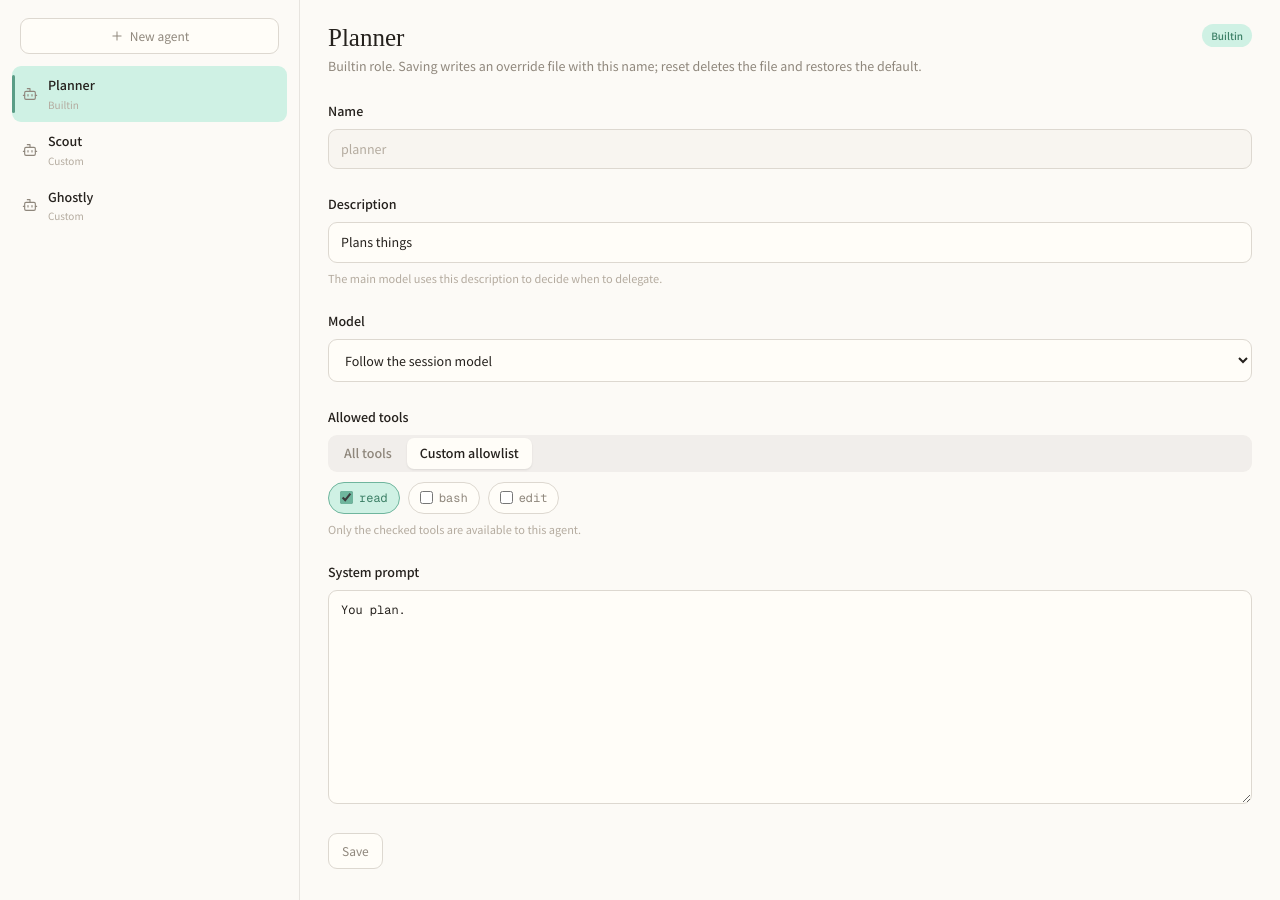
SubagentsPanel › rejects an empty custom allowlist
Click the text "Scout" at (65, 140), box [48,131,82,150]
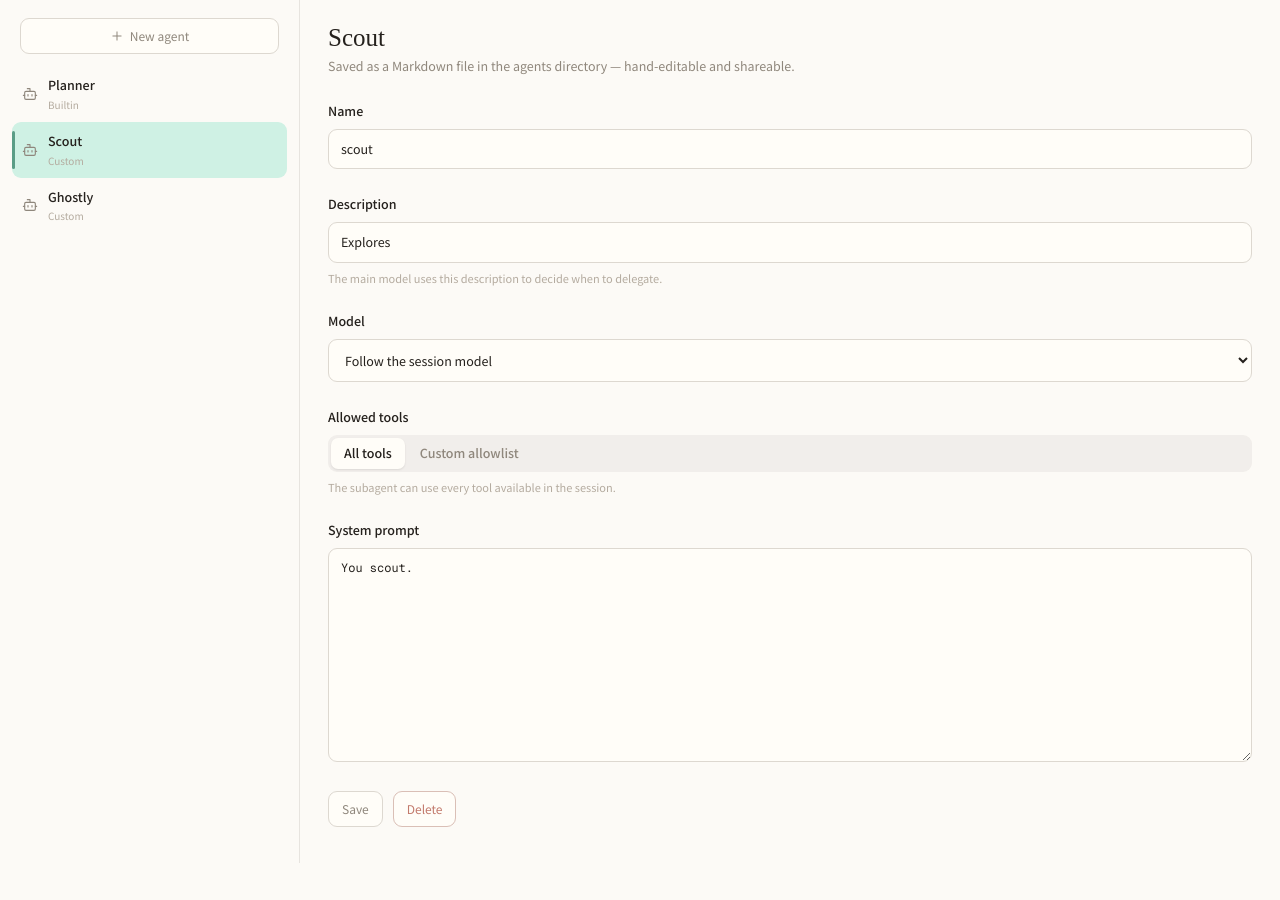
Click the button "Custom allowlist" at (469, 453), box [407,438,532,469]
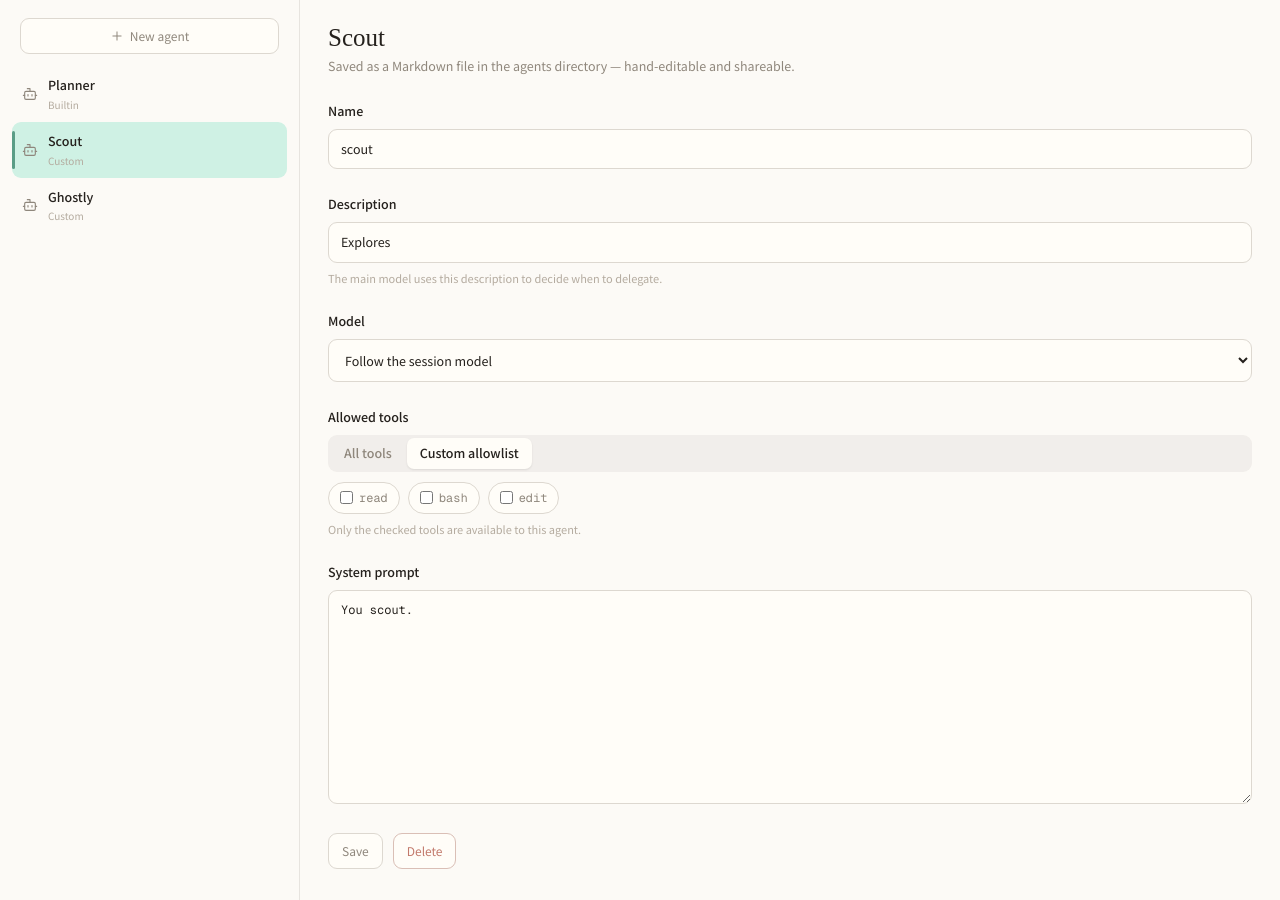
Click the button "Save" at (355, 851), box [328,833,383,869]
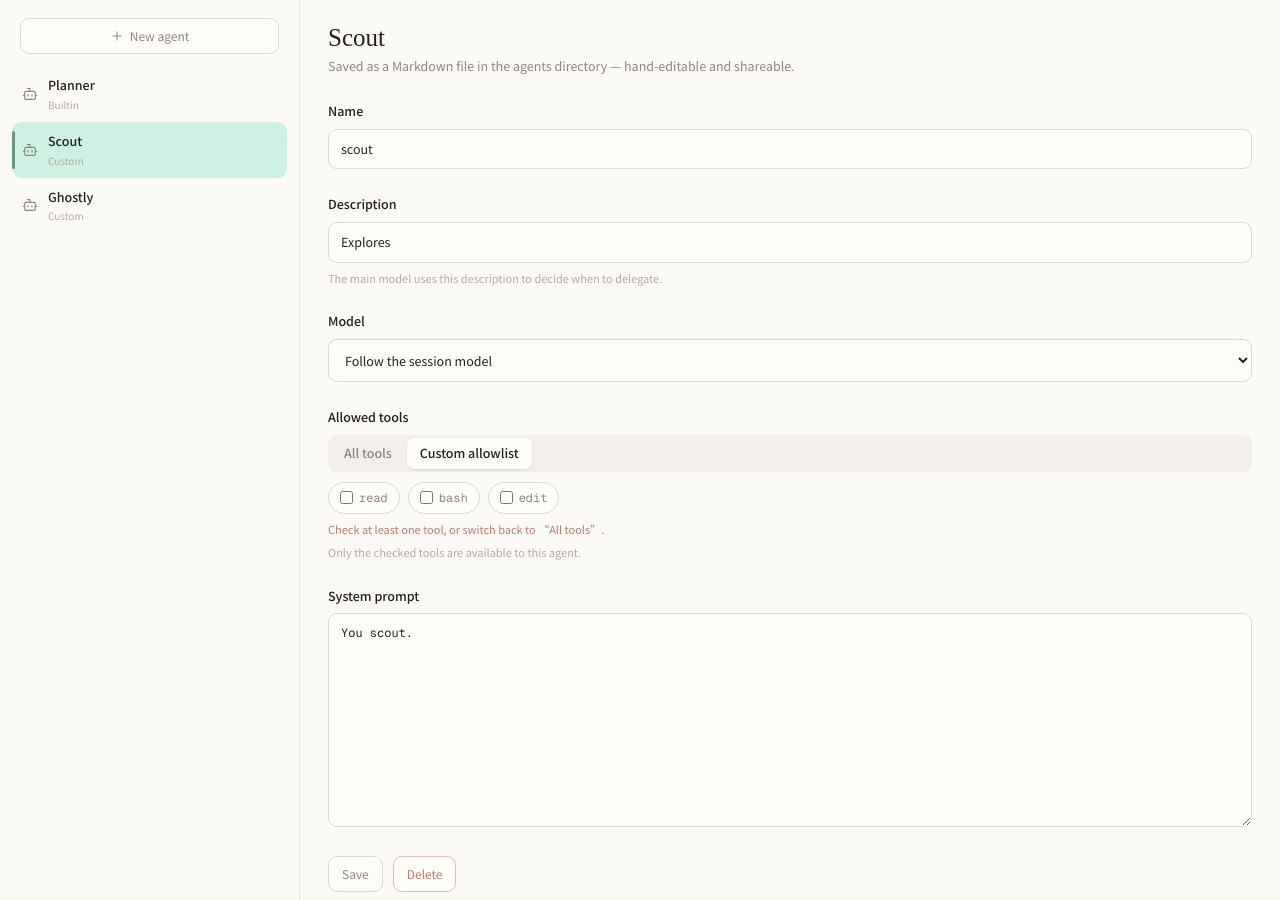
expect the text "Check at least one tool, or switch back to “All tools”." is shown: met, box [328,520,604,536]
